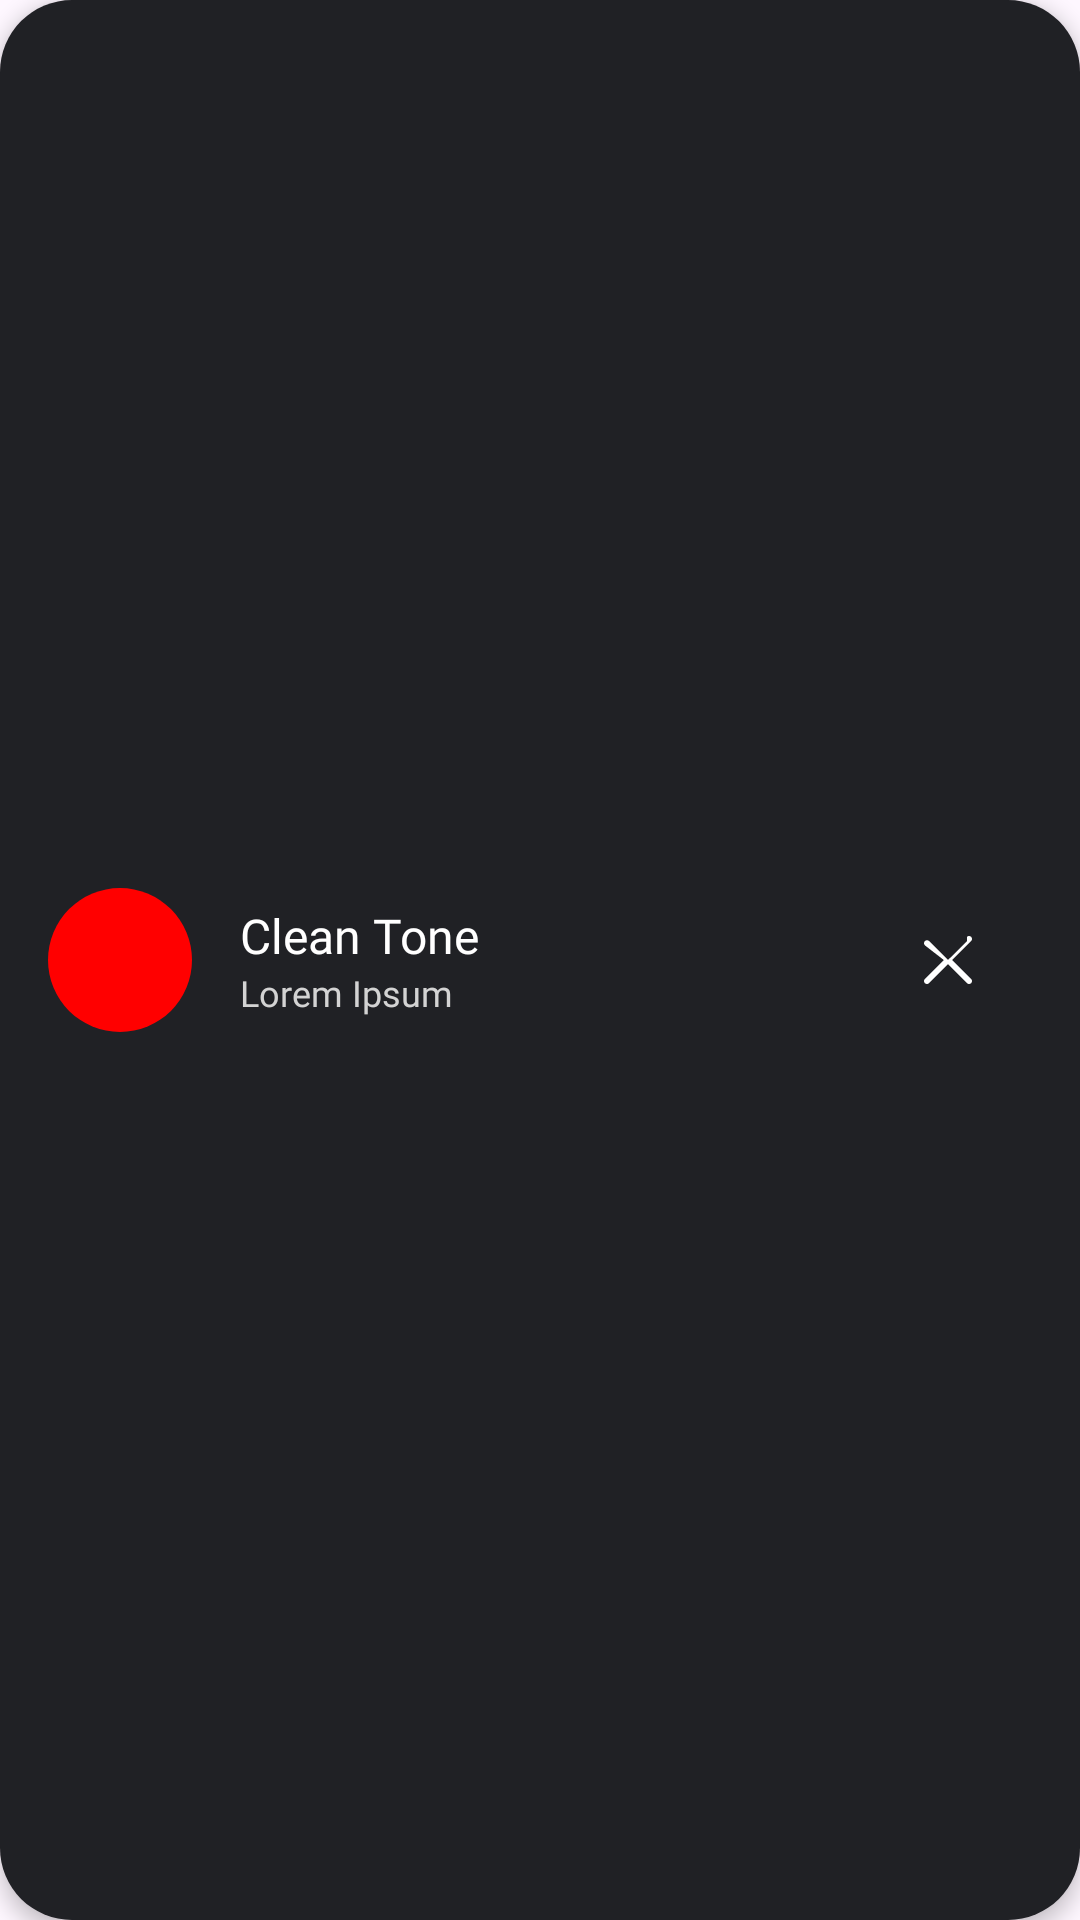

Where icons sit on this 1080w x 1920h app screen, as region(x1, y1, x2, y2):
Remove Effect: region(924, 936, 972, 984)
